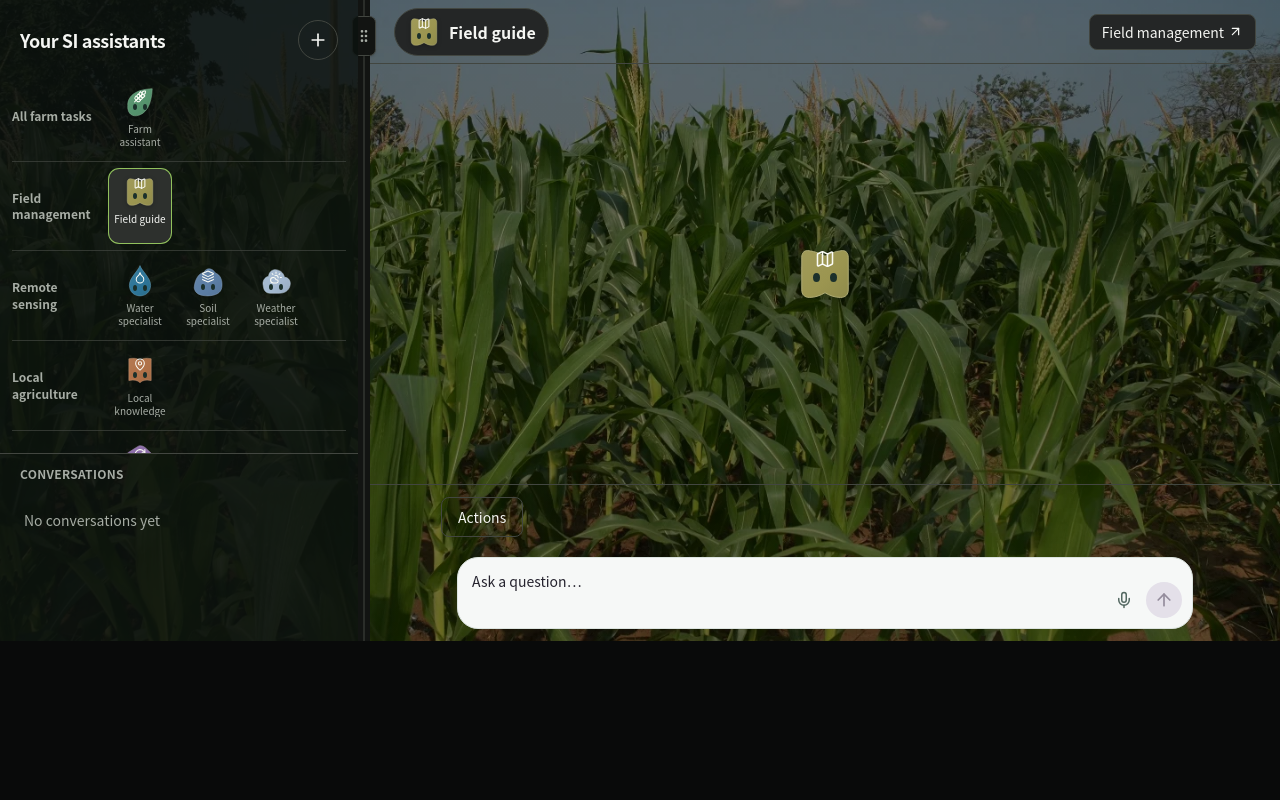
Test: resizes the assistants panel with the keyboard and remembers its width
Later steps or results of the test are not shown.
Step 1. Click the element named "Resize assistants panel" → (364, 320), box x1=358 y1=0 x2=370 y2=641
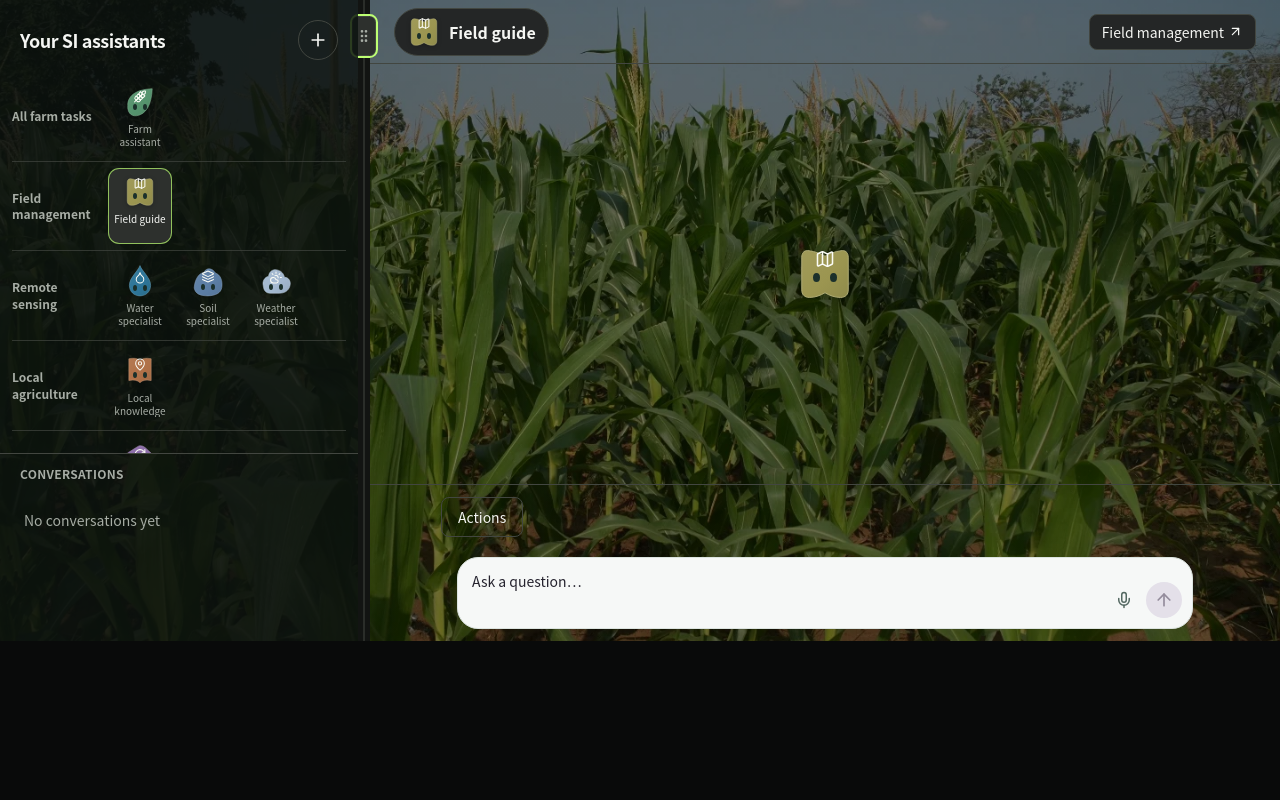
Step 2. Press Arrowright
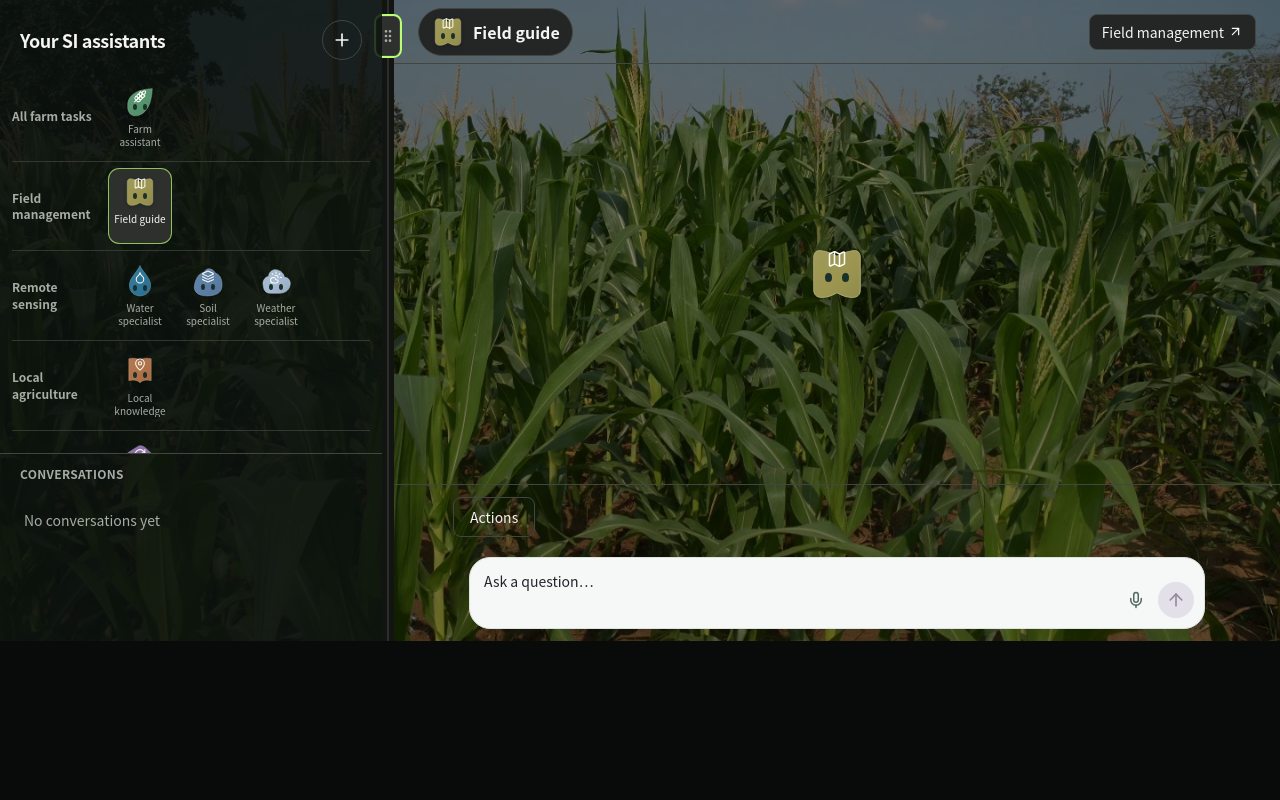
Now the element named "Resize assistants panel" has attribute aria-valuenow="382", box x1=382 y1=0 x2=394 y2=641
